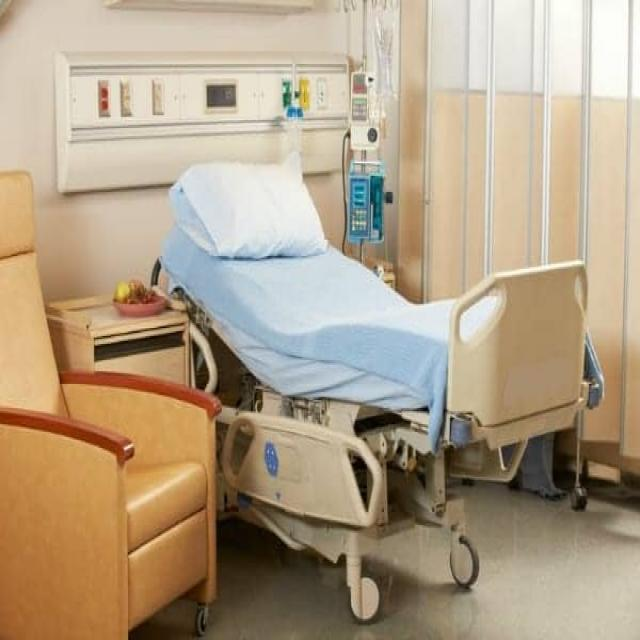iv_fluids: (335, 32, 413, 284)
patient_bed: (172, 183, 584, 516)
